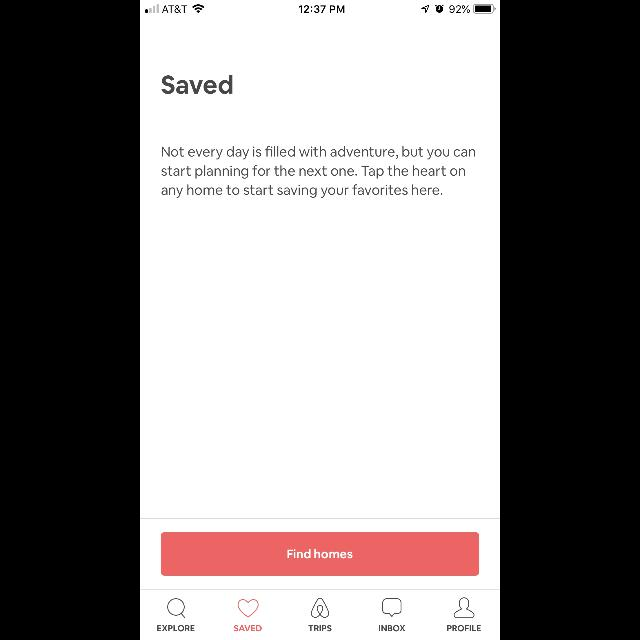icon: (382, 598, 402, 618), (454, 598, 474, 618), (168, 598, 186, 618), (238, 599, 258, 617)
image: (311, 598, 329, 618)
text: (162, 146, 476, 198), (162, 76, 232, 94), (158, 624, 195, 632), (447, 624, 481, 632), (234, 625, 262, 631), (379, 625, 405, 631), (308, 625, 332, 631)
textbutton: (161, 532, 479, 576)
uppertaskbar: (140, 0, 500, 14)
